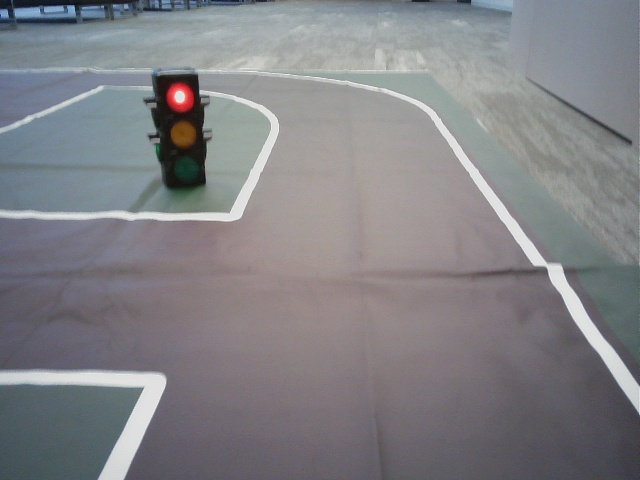red: (160, 76, 203, 184)
